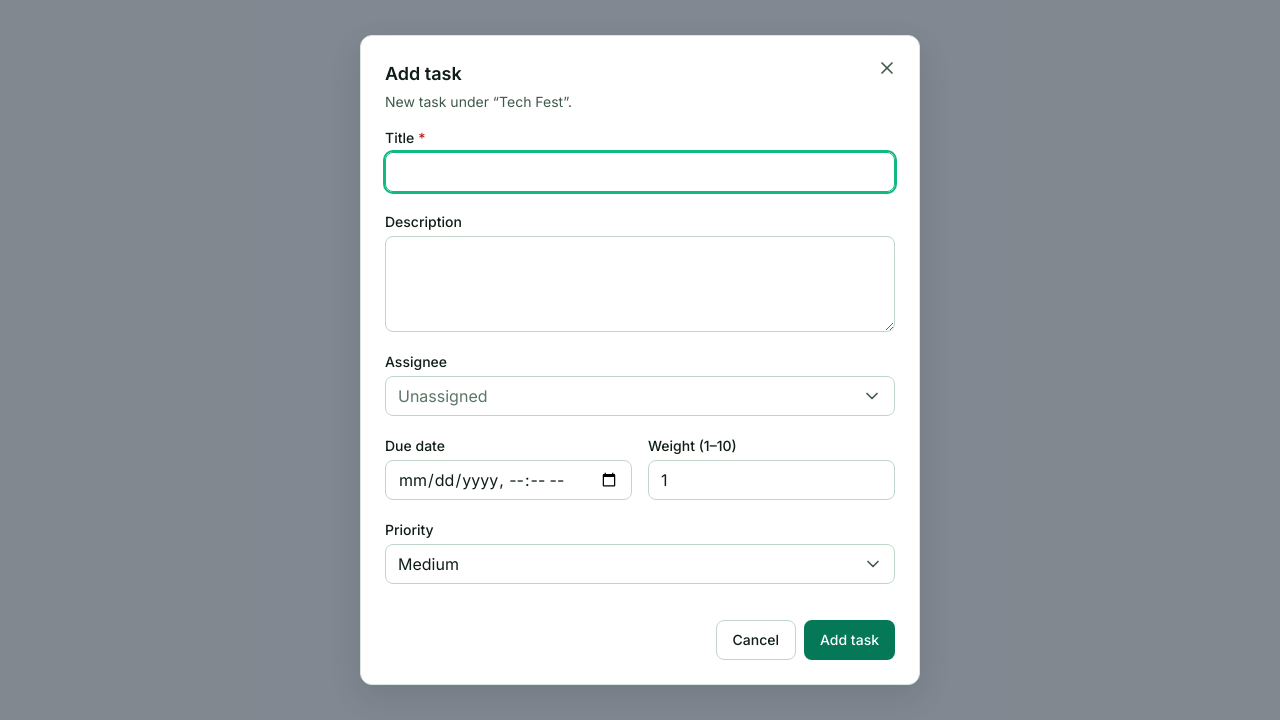
Test case: NodeFormDialog: error codes › shows the catalogue message for E_NODE_LIMIT
This screenshot has width=1280, height=720.
Type "x" into the field labelled "Title*" at [640, 172], box [385, 152, 895, 192]
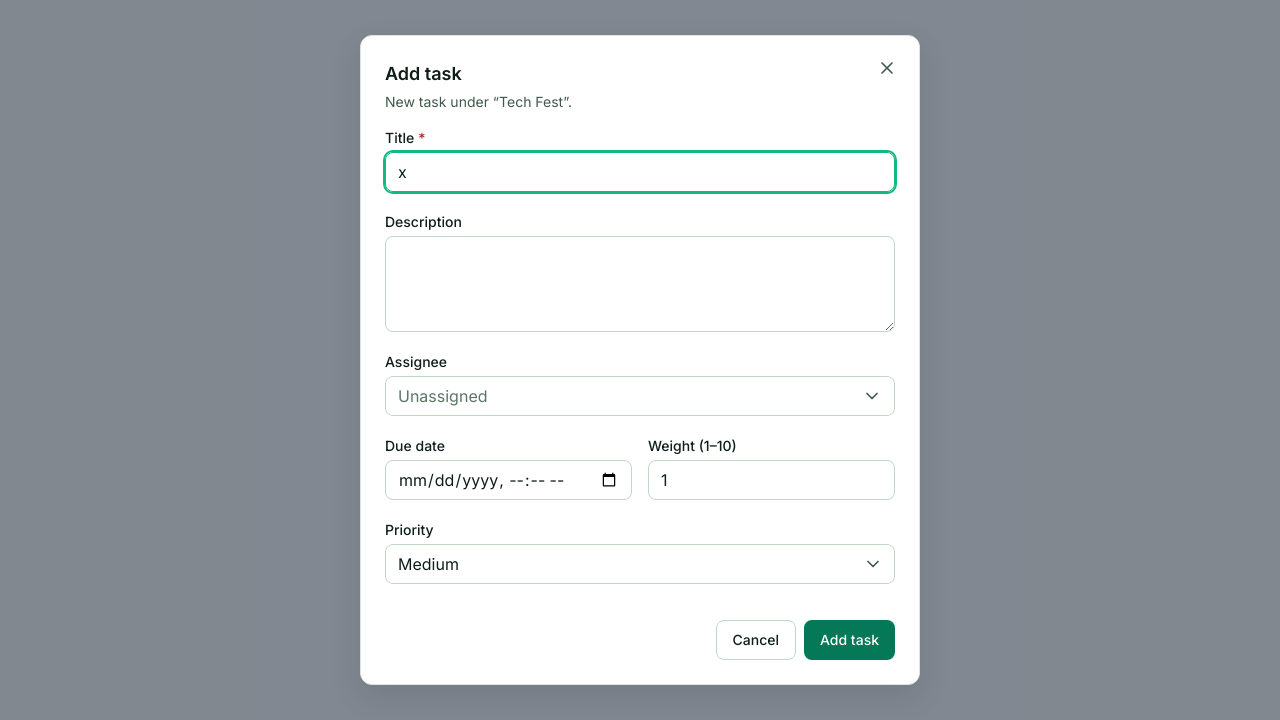
Click the button "Add task" at [850, 640], box [804, 620, 895, 660]
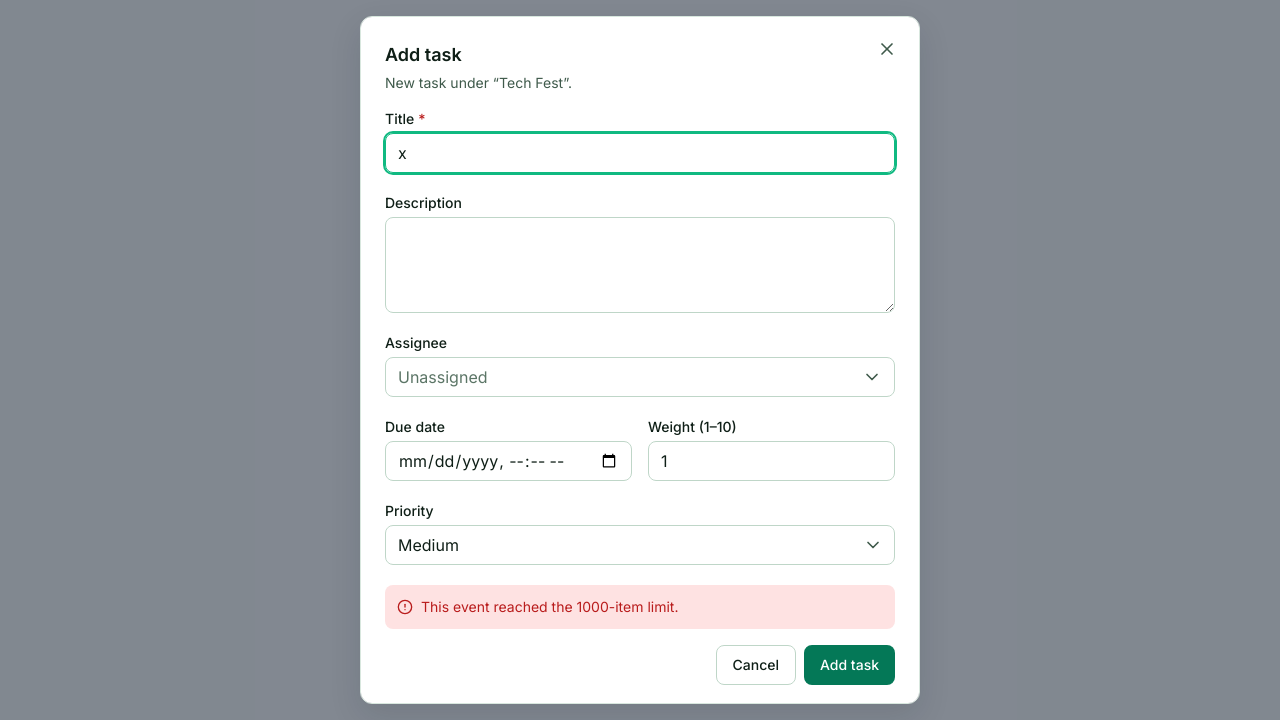
Expected: the message reads "This event reached the 1000-item limit.", [421, 598, 678, 615]
